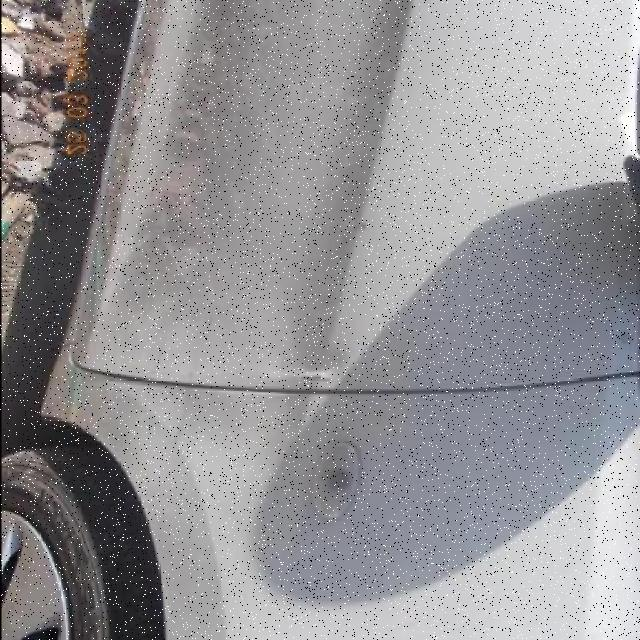damage: (161, 258, 225, 449), (137, 299, 176, 411), (334, 215, 368, 259), (298, 372, 337, 383)
